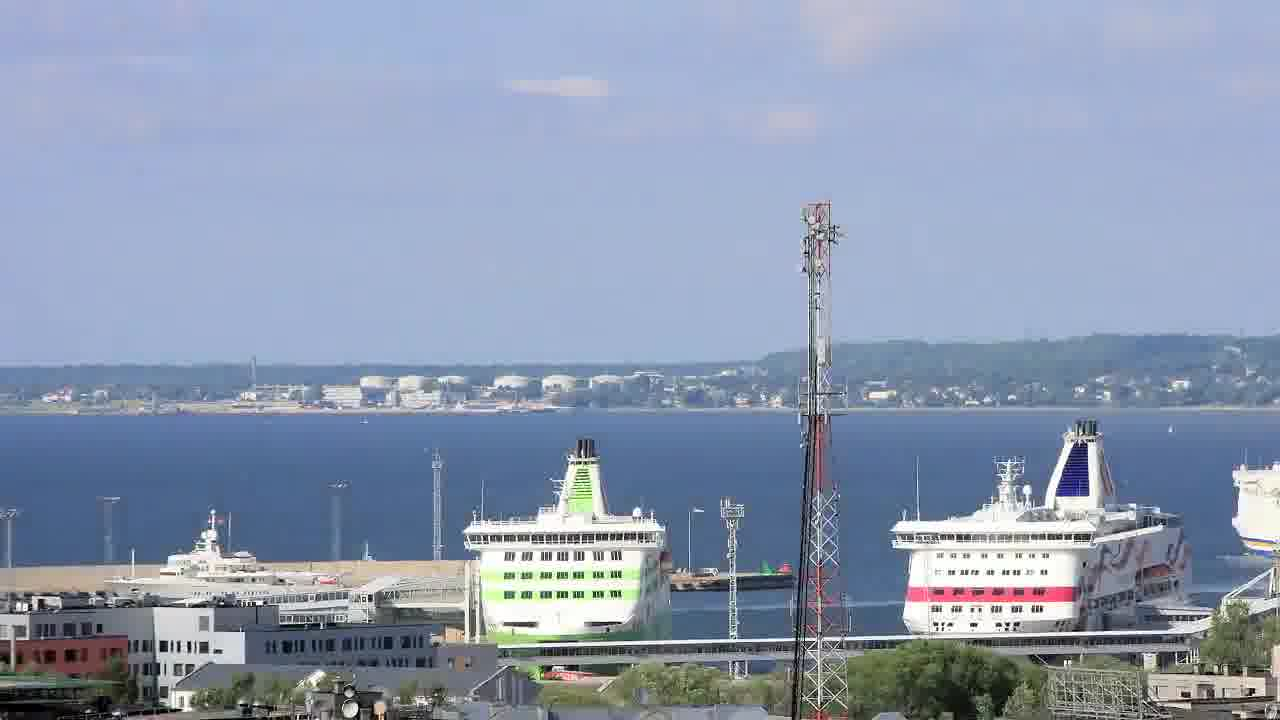type-3: (868, 415, 1225, 638), (436, 434, 694, 670), (85, 493, 355, 613)
